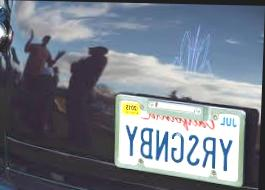License_Plate: (116, 111, 247, 171)
